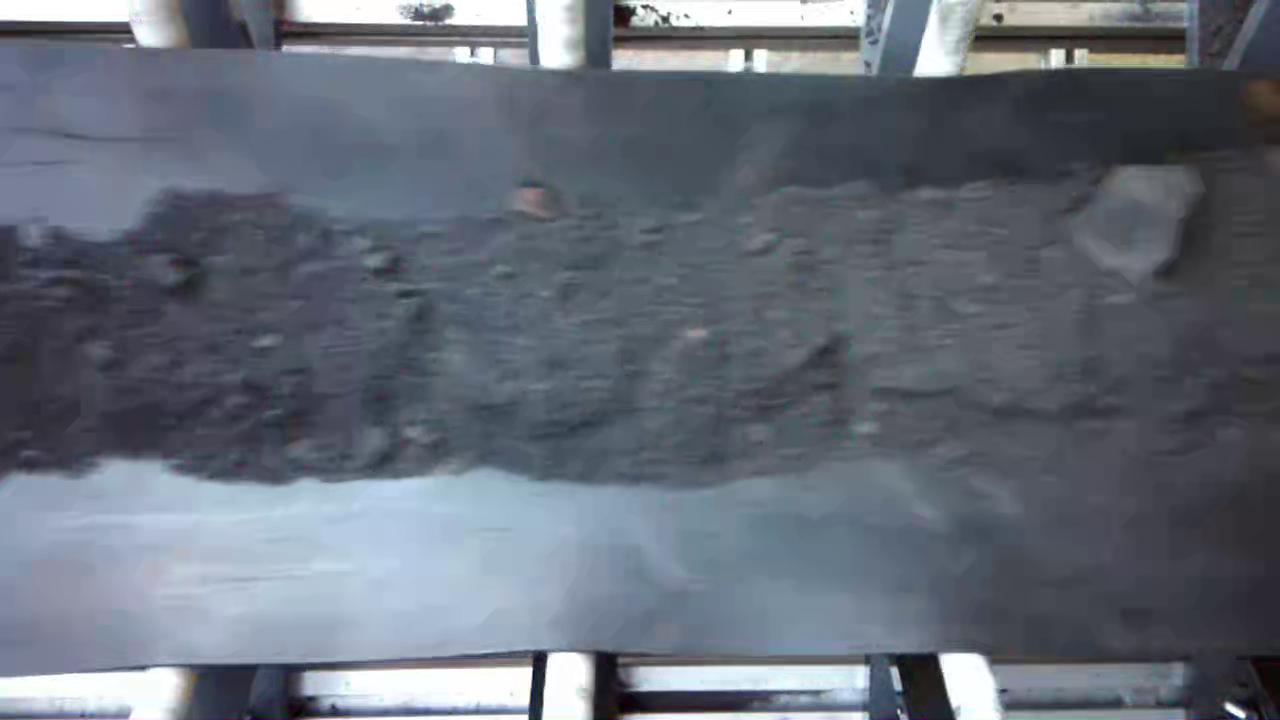conveyor: (8, 84, 1280, 652)
